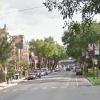Tree: (44, 0, 100, 62)
